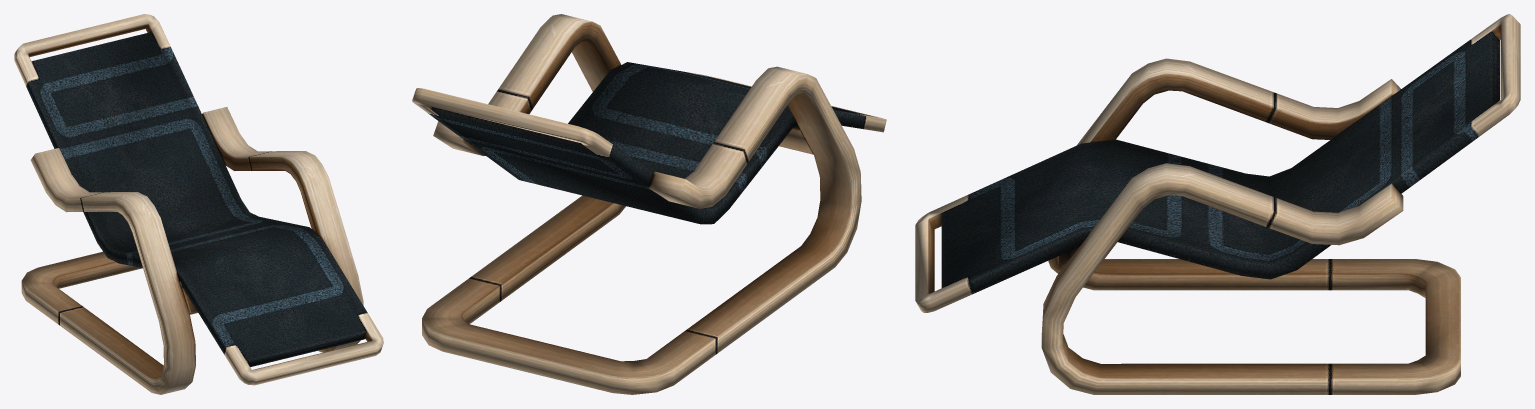
The model's file is ChairReclining03.FBX.
3 views of the same model, side by side, from view 1: azimuth 30°, elevation 25°; view 2: azimuth 150°, elevation 25°; view 3: azimuth 270°, elevation 25° (orthographic). The views are drawn at different scales.
Visible parts, largest first — view 1: ChairReclining03; view 2: ChairReclining03; view 3: ChairReclining03.
Part boxes in pixels (left/top/right/bottom): ChairReclining03: left=14, top=14, right=383, bottom=394; ChairReclining03: left=412, top=14, right=886, bottom=394; ChairReclining03: left=915, top=14, right=1520, bottom=394.
Bounding box in the file's own units: 0.9046 × 0.994 × 1.93.
